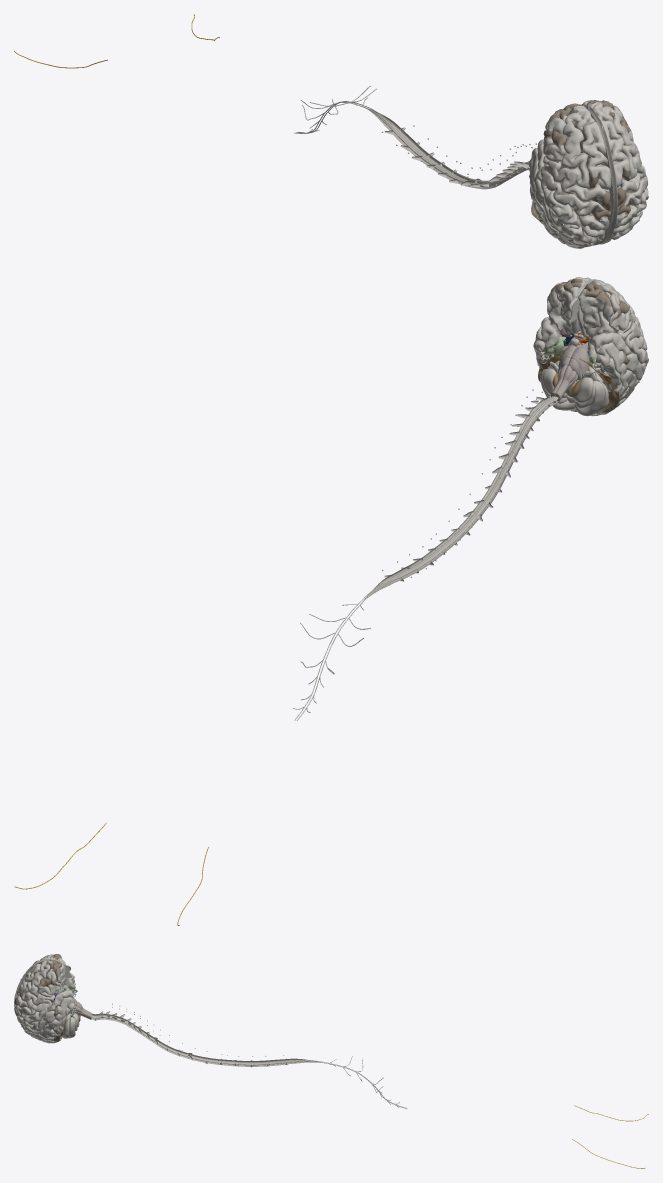
File: cranial-zanat.glb
3 renders of one model, top to bottom at view 1: azimuth 30°, elevation 25°; view 2: azimuth 150°, elevation 25°; view 3: azimuth 270°, elevation 25°, orthographic. The views are drawn at different scales.
Visible parts, largest first — view 1: cranial-zanat; view 2: cranial-zanat; view 3: cranial-zanat.
Part boxes in pixels (x1,y1,x2,y2): cranial-zanat: (14, 14, 648, 248); cranial-zanat: (14, 277, 648, 925); cranial-zanat: (14, 954, 648, 1168).
Size of the model in its own units: 246 by 407 by 1284.
